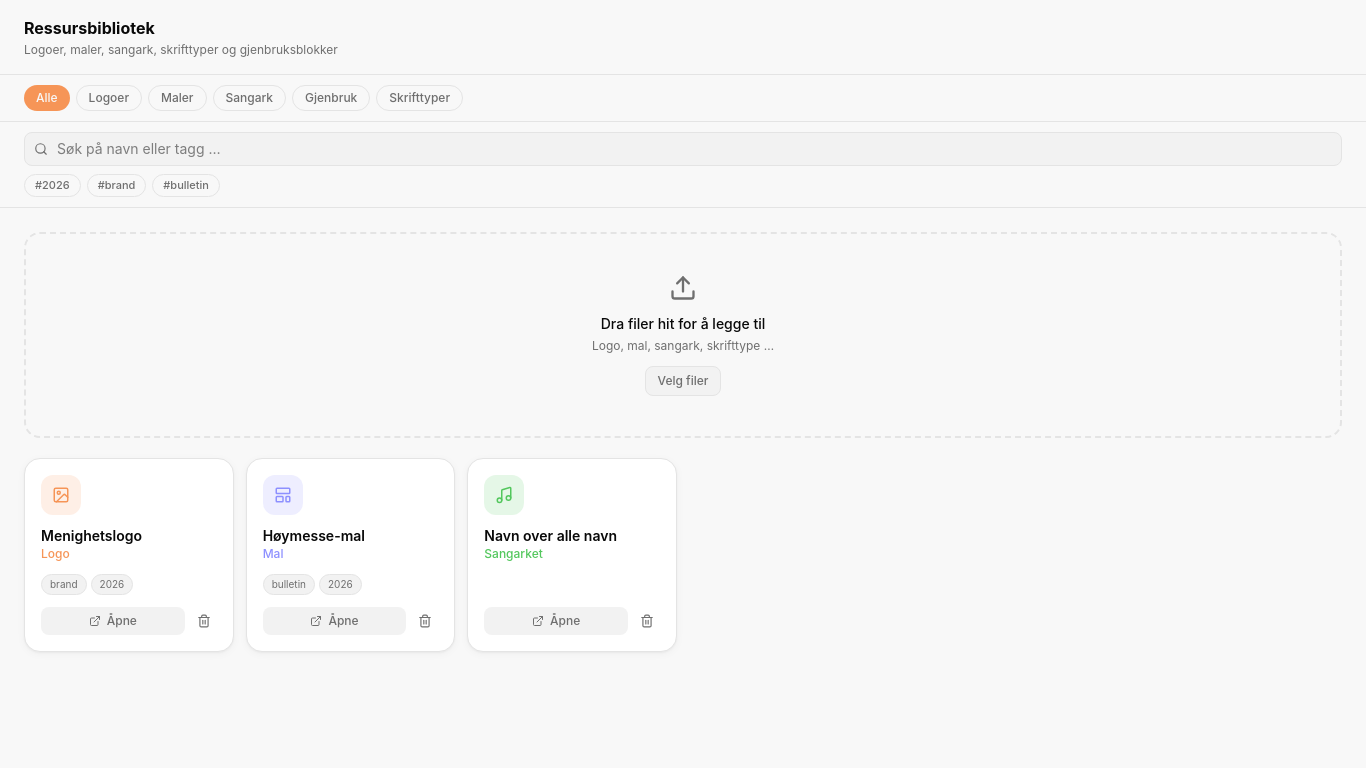
Test: AssetsPanel › surfaces a delete failure as an error banner
expect the text "Menighetslogo" is shown: met, box [41,526,142,544]
Click the button named "Slett Menighetslogo" at (204, 621), box [191,607,217,635]
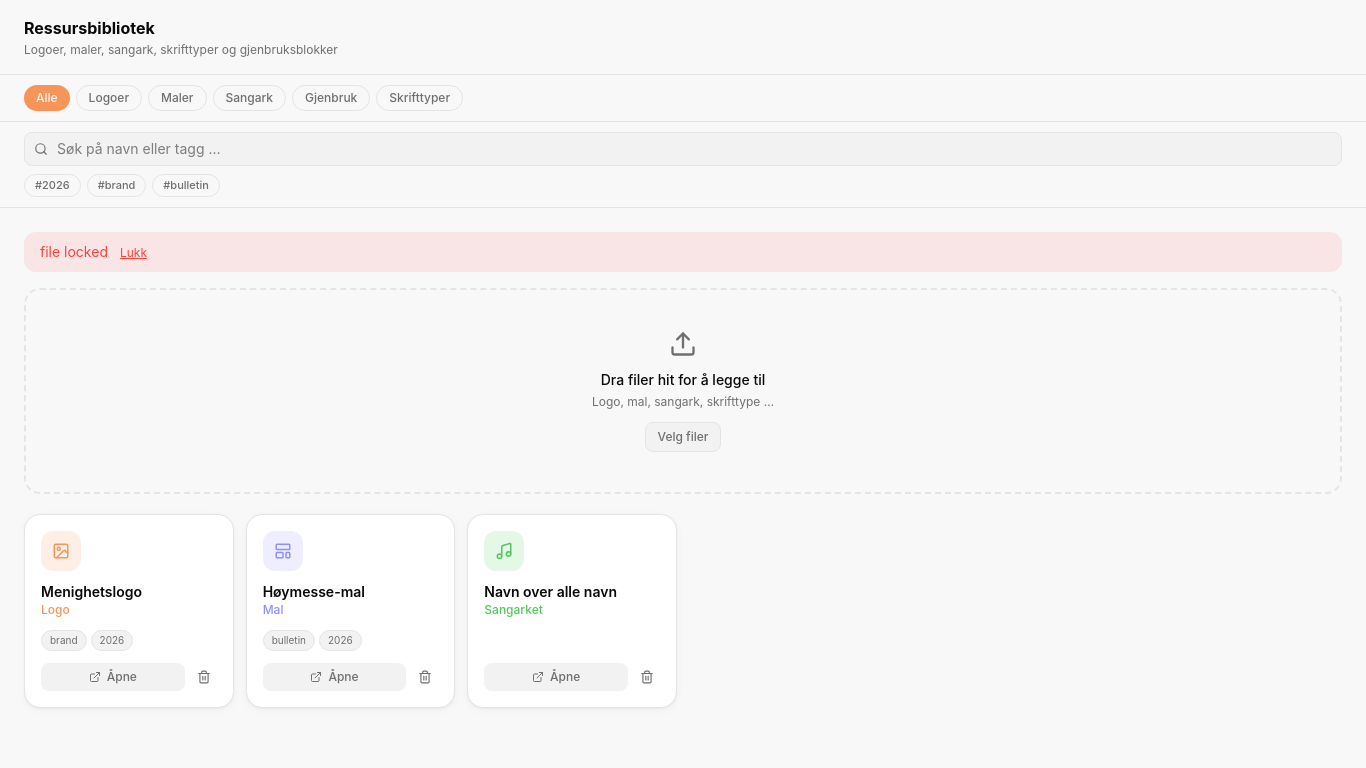
expect the text "Menighetslogo" is shown: met, box [41,582,142,600]
expect the text "file locked" is shown: met, box [40,242,108,260]
